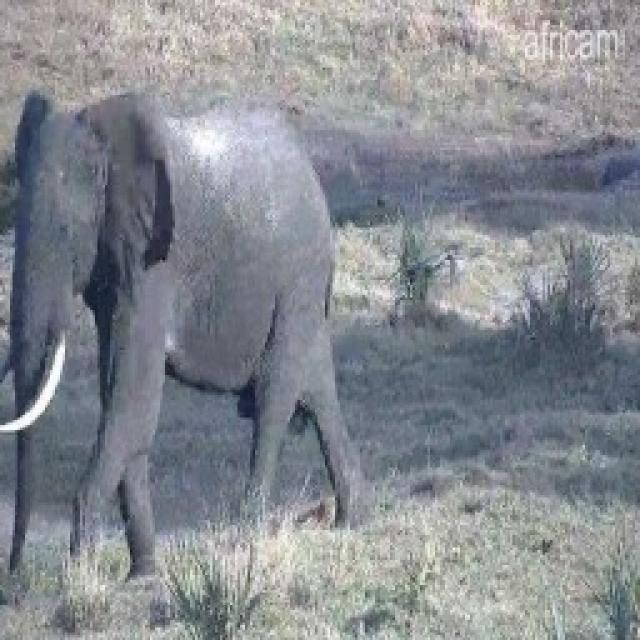not_pig: (0, 85, 370, 593)
